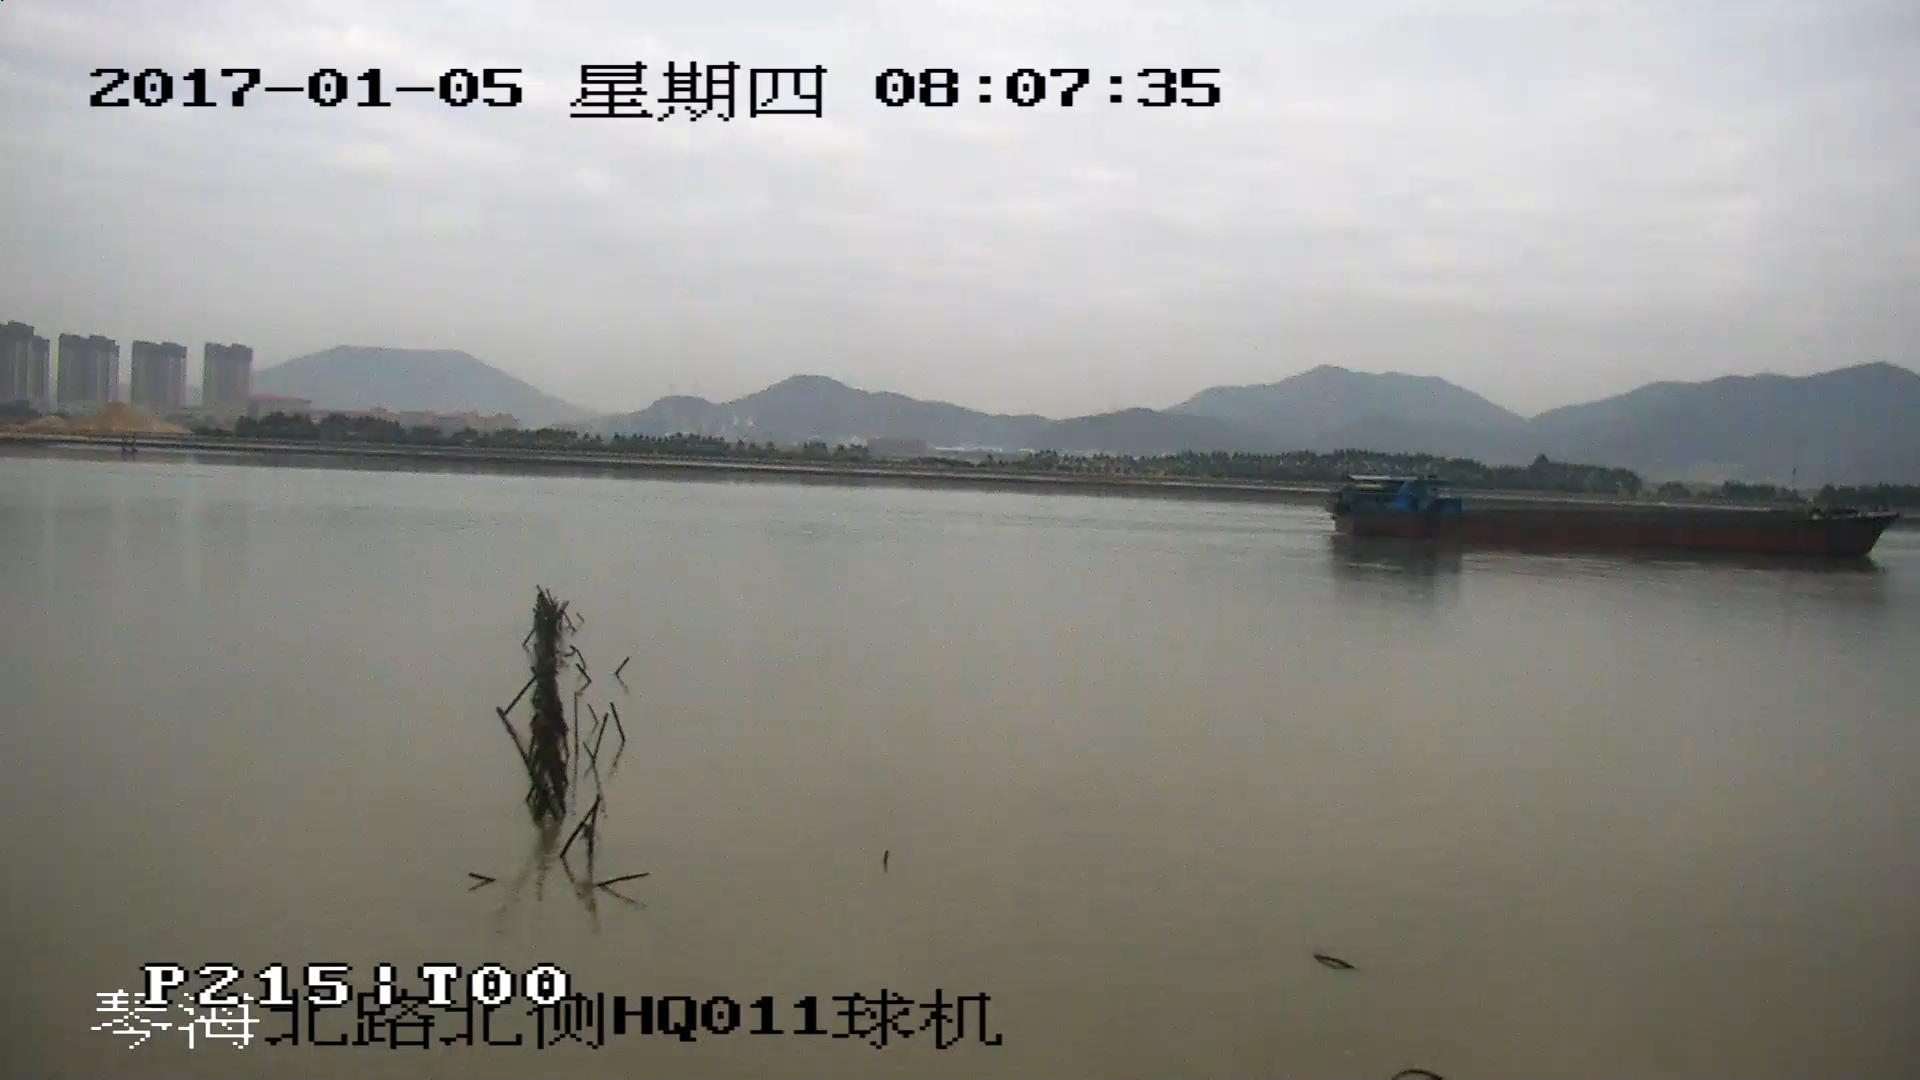Ship: (1331, 475, 1895, 559)
